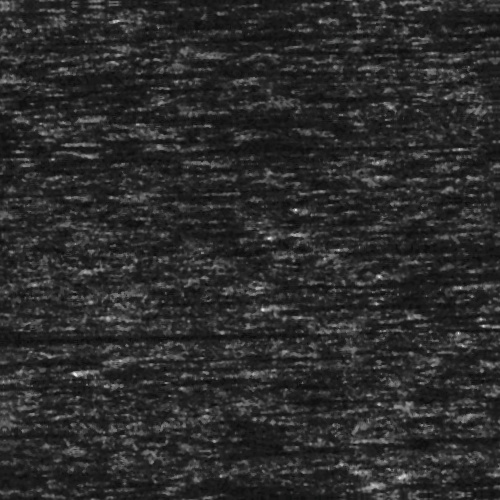object: (0, 64, 78, 77), (62, 350, 167, 359), (67, 363, 108, 372), (61, 134, 114, 139), (305, 230, 346, 235)
shadow: (6, 64, 381, 77), (0, 325, 257, 336), (114, 350, 274, 359), (88, 363, 246, 372), (325, 230, 499, 235), (0, 375, 49, 386), (88, 134, 180, 139)
